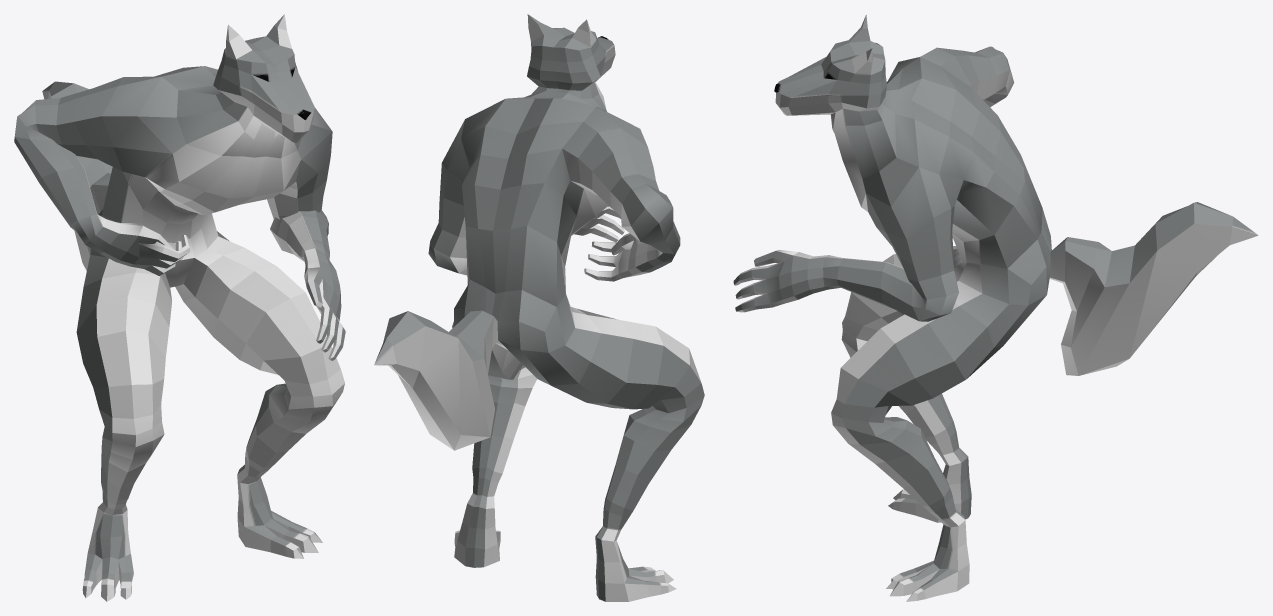
Rendered from WolfIdle_(93).obj.
3 views of the same model, side by side, from view 1: azimuth 30°, elevation 25°; view 2: azimuth 150°, elevation 25°; view 3: azimuth 270°, elevation 25° (orthographic). The views are drawn at different scales.
Parts seen in each view (by area): view 1: Box001; view 2: Box001; view 3: Box001.
Boxes of the visible parts, <box> form: Box001: <box>14,14,345,601</box>; Box001: <box>374,14,704,601</box>; Box001: <box>733,15,1258,601</box>.
Size of the model in its own units: 69.39 by 132 by 117.
